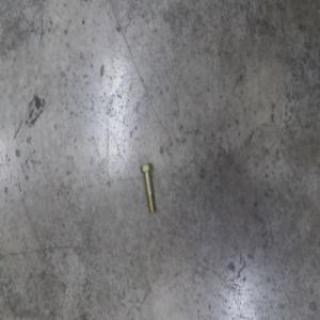Bolttrack_idkeyframe: (139, 160, 155, 212)
